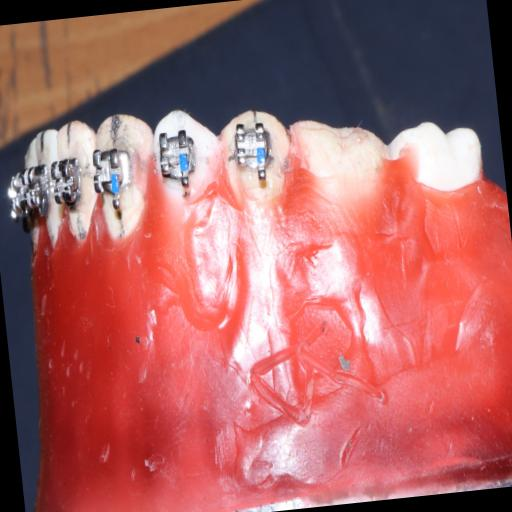incorrect_brace: (232, 120, 274, 166)
